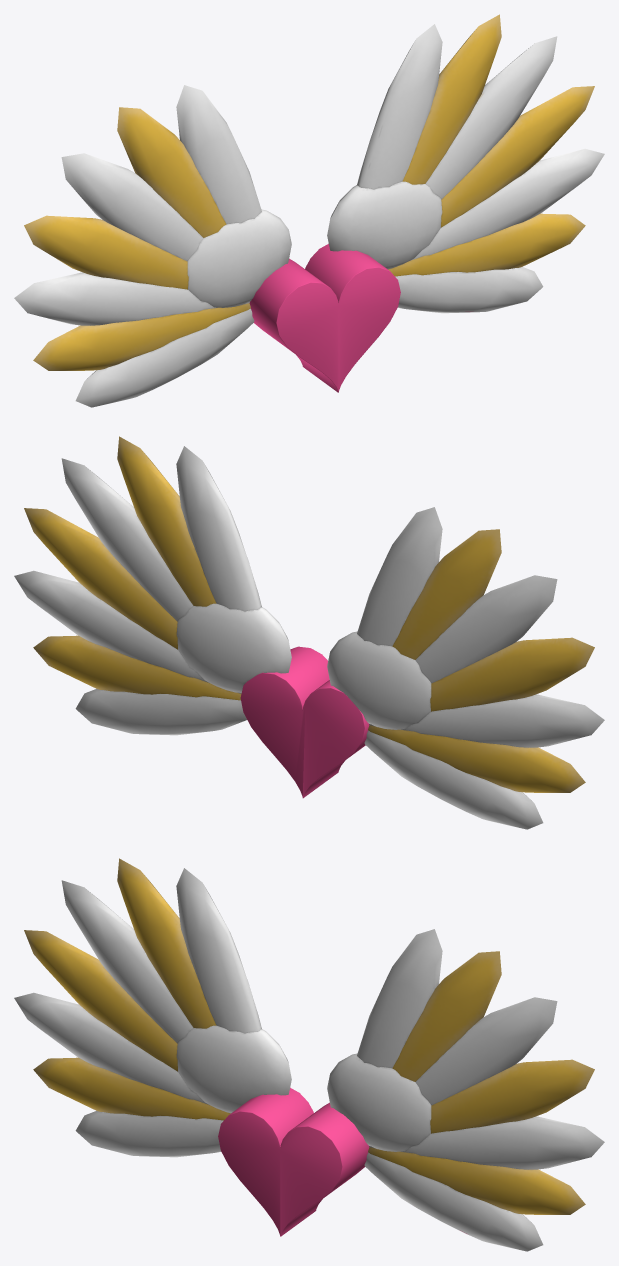
The model's file is cb_powerup_wings.fbx.
The picture shows the model from 3 angles, top to bottom: view 1: azimuth 30°, elevation 25°; view 2: azimuth 150°, elevation 25°; view 3: azimuth 330°, elevation 25°; orthographic projection.
Visible parts, largest first — view 1: cb_powerup_wings; view 2: cb_powerup_wings; view 3: cb_powerup_wings.
Part boxes in pixels (<box>): cb_powerup_wings: <box>14,14,604,407</box>; cb_powerup_wings: <box>14,436,604,829</box>; cb_powerup_wings: <box>14,858,604,1251</box>.
Size of the model in its own units: 1.52 by 0.7784 by 0.1724.
Materials: 3 (3 with a texture image).
